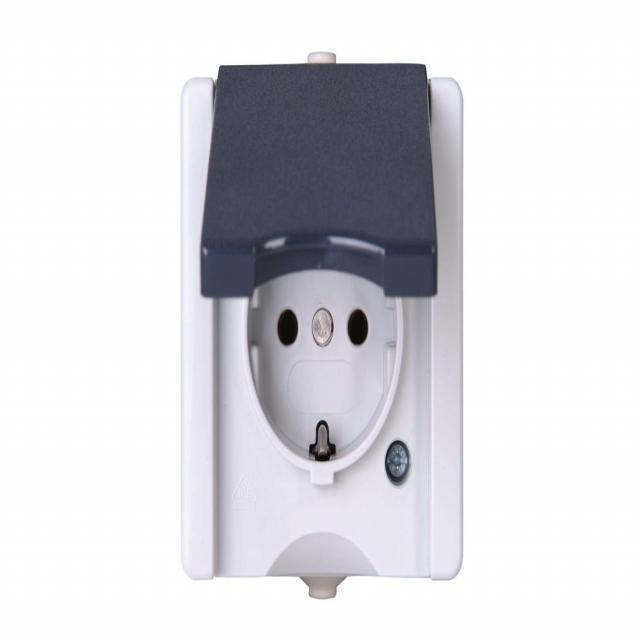typeb: (167, 55, 486, 598)
